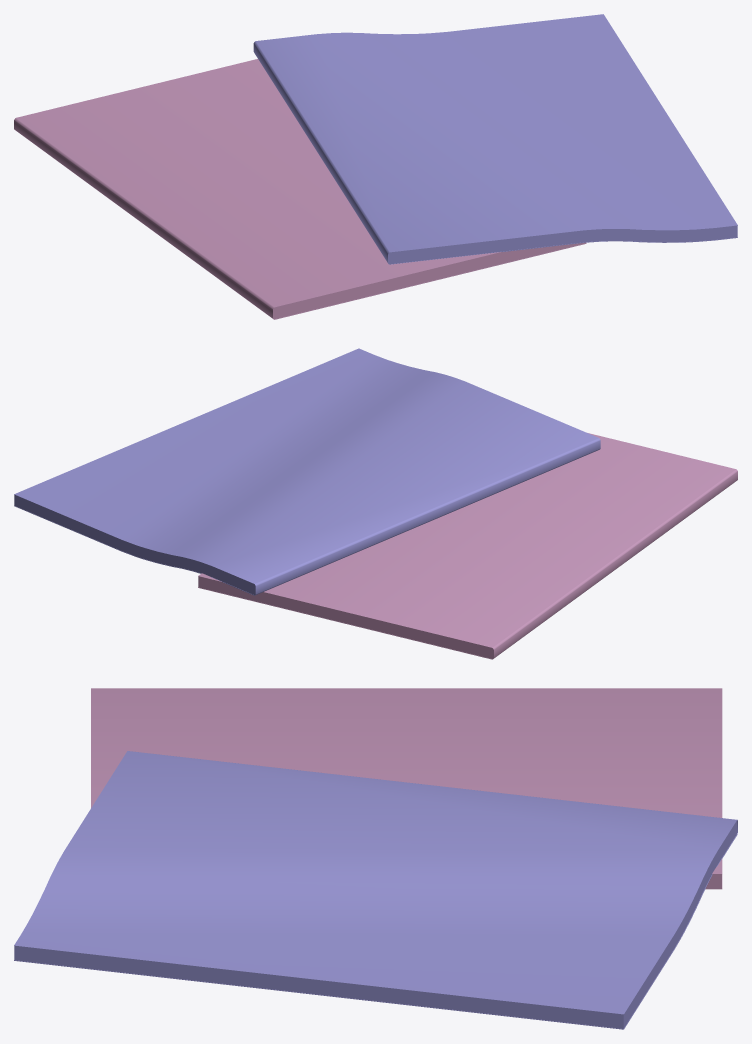
Rendered from Magazines.fbx.
3 renders of one model, top to bottom at view 1: azimuth 30°, elevation 25°; view 2: azimuth 150°, elevation 25°; view 3: azimuth 270°, elevation 25°, orthographic. The views are drawn at different scales.
Parts seen in each view (by area): view 1: Magazine1, Magazine2; view 2: Magazine1, Magazine2; view 3: Magazine1, Magazine2.
Part boxes in pixels (left/top/right/bottom): Magazine1: left=253, top=14, right=737, bottom=264; Magazine2: left=14, top=59, right=586, bottom=319; Magazine1: left=14, top=348, right=600, bottom=595; Magazine2: left=198, top=433, right=737, bottom=659; Magazine1: left=14, top=751, right=737, bottom=1029; Magazine2: left=91, top=688, right=722, bottom=889.
Bounding box in the file's own units: 36.76 × 34.41 × 1.6.
